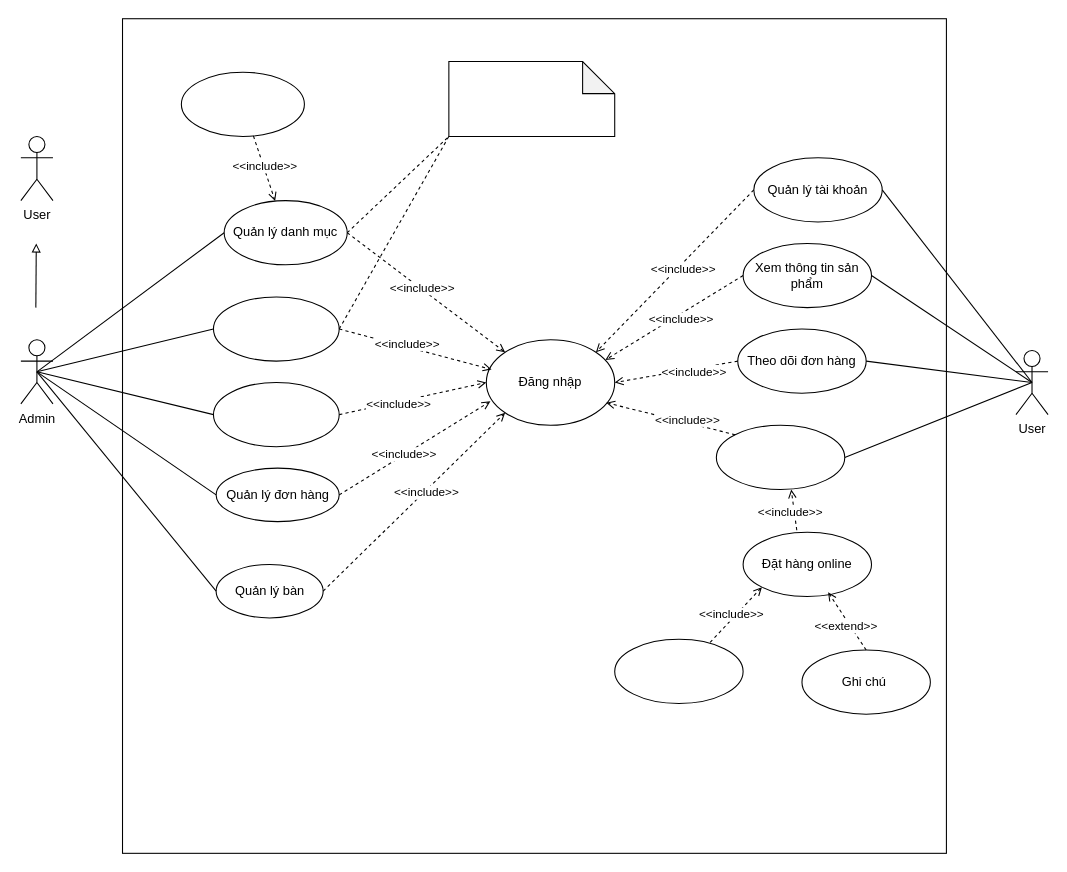
This 1067x872 diagram has some shape labels left out. Each missing label, with the centre of its shape:
"Quản lý doanh thu & lịch sử" goes at point 275,414.
"Quản lý người dùng & nhân viên" goes at point 275,328.
"Quản lý đồ uống" goes at point 242,103.
"Thanh toán" goes at point 678,671.
"Thêm, xóa, sửa" goes at point 531,98.
"Xem danh mục" goes at point 780,457.
